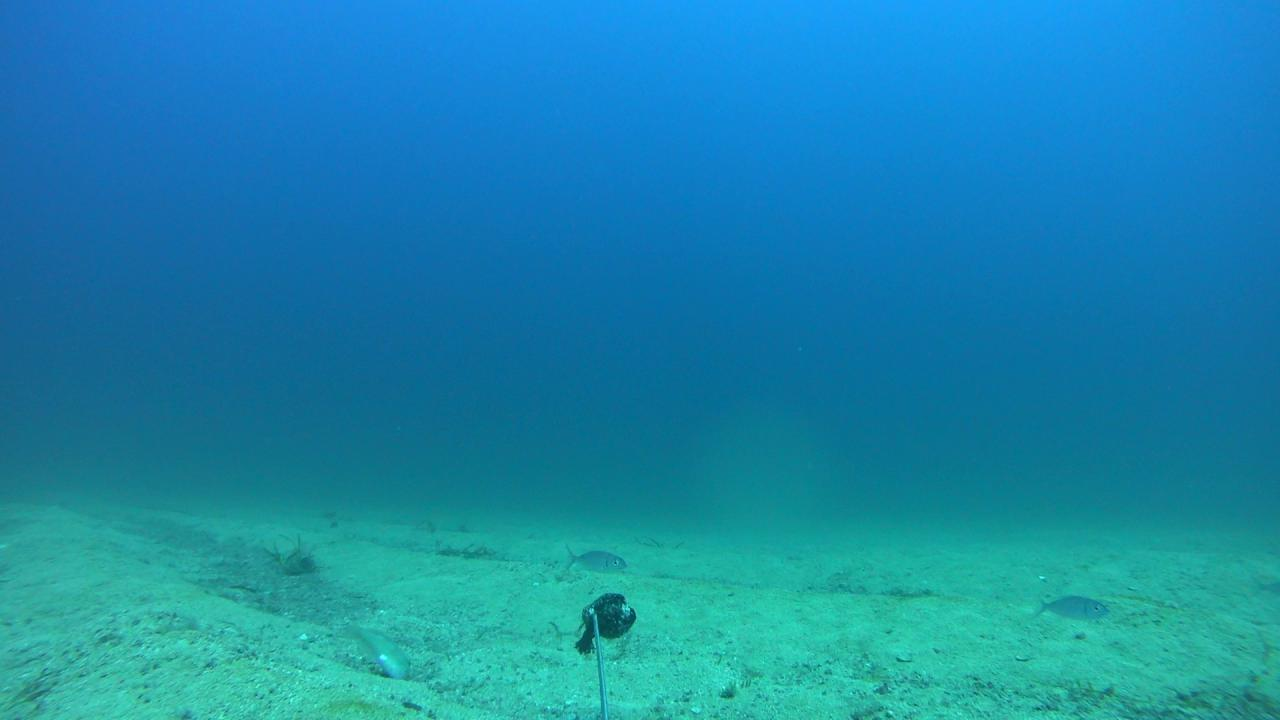pagellus: (1032, 588, 1112, 623), (563, 543, 628, 576)
raor: (342, 619, 412, 680)
